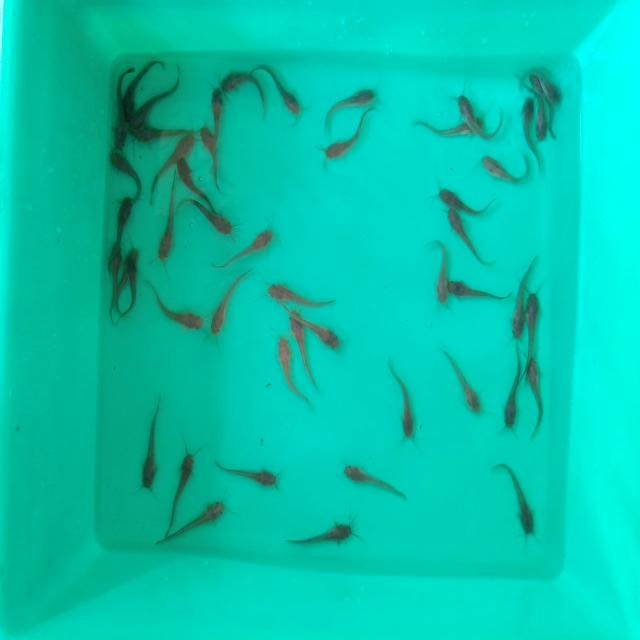lele: (313, 118, 375, 169), (448, 210, 498, 270), (500, 461, 540, 535), (260, 62, 305, 124), (267, 270, 336, 310), (161, 500, 228, 540), (148, 290, 206, 335), (442, 352, 483, 414), (166, 445, 199, 520), (460, 87, 508, 137), (210, 272, 246, 336), (345, 463, 406, 500), (138, 403, 164, 488), (318, 82, 378, 118), (291, 518, 354, 552), (389, 361, 416, 439), (188, 200, 236, 243), (225, 226, 275, 266), (447, 274, 507, 306), (134, 86, 180, 127), (126, 55, 160, 108), (416, 111, 486, 136), (525, 354, 546, 437), (437, 182, 498, 210), (217, 462, 282, 488), (503, 350, 523, 434), (109, 148, 144, 194), (427, 239, 449, 311), (304, 310, 346, 347), (482, 156, 531, 187), (178, 156, 209, 204), (201, 126, 225, 188), (221, 64, 262, 100), (510, 265, 529, 342), (160, 188, 179, 264), (112, 197, 138, 250), (274, 338, 298, 393), (154, 142, 182, 189), (525, 290, 543, 359), (130, 121, 182, 144), (104, 240, 121, 308), (547, 62, 561, 144), (112, 72, 125, 152), (519, 96, 535, 155), (288, 308, 305, 362), (206, 88, 226, 132), (127, 255, 140, 318), (535, 96, 549, 148), (518, 66, 544, 94), (117, 263, 129, 318)
